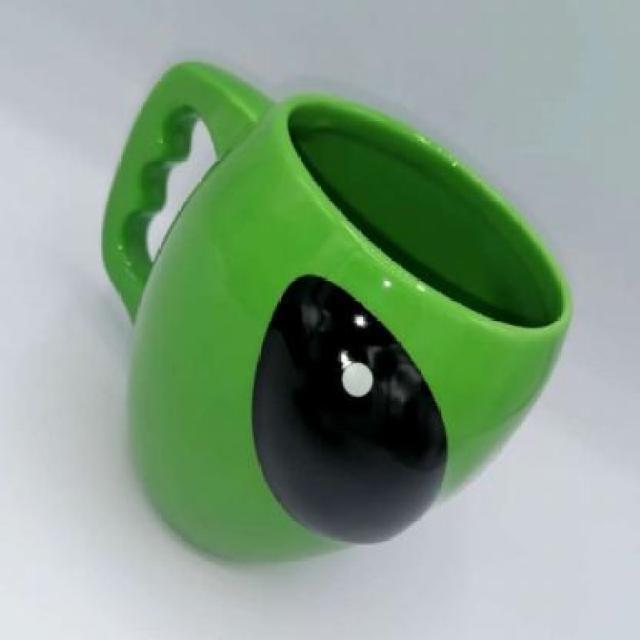taza: (97, 59, 576, 564)
